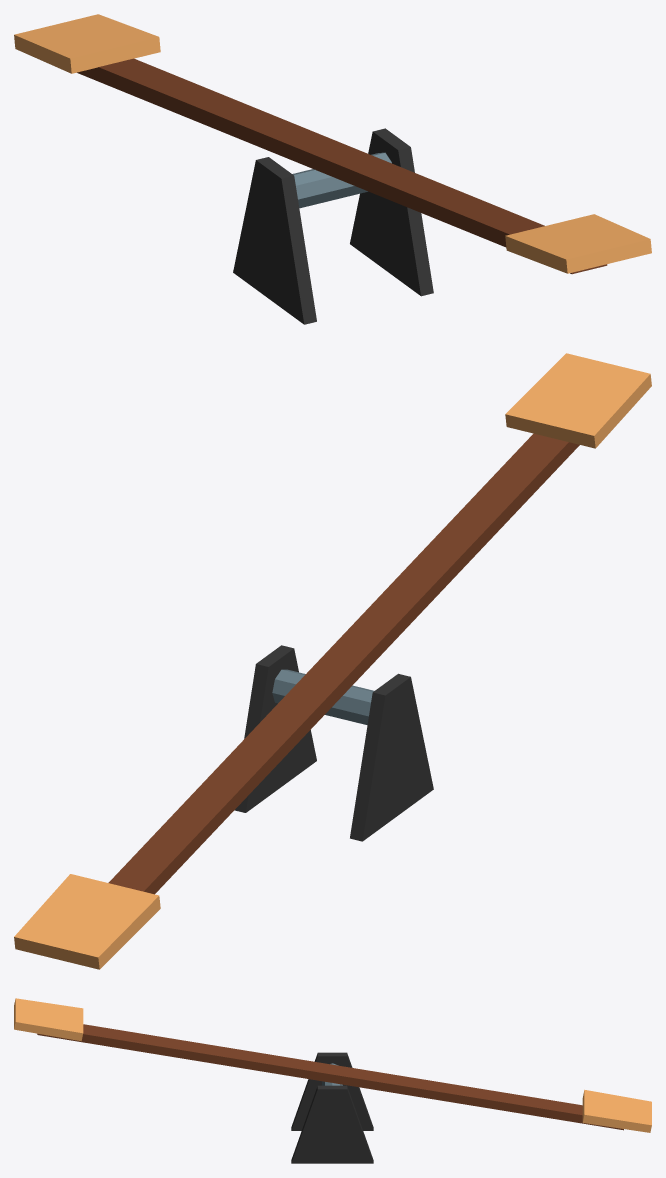
The model's file is Seesaw.glb.
3 renders of one model, top to bottom at view 1: azimuth 30°, elevation 25°; view 2: azimuth 150°, elevation 25°; view 3: azimuth 270°, elevation 25°, orthographic. The views are drawn at different scales.
Visible parts, largest first — view 1: Seesaw; view 2: Seesaw; view 3: Seesaw.
Boxes of the visible parts, x1,y1,x2,y2 form: Seesaw: (14,14,651,324); Seesaw: (14,353,651,969); Seesaw: (14,998,651,1163).
Size of the model in its own units: 0.4811 by 0.8336 by 3.56.
